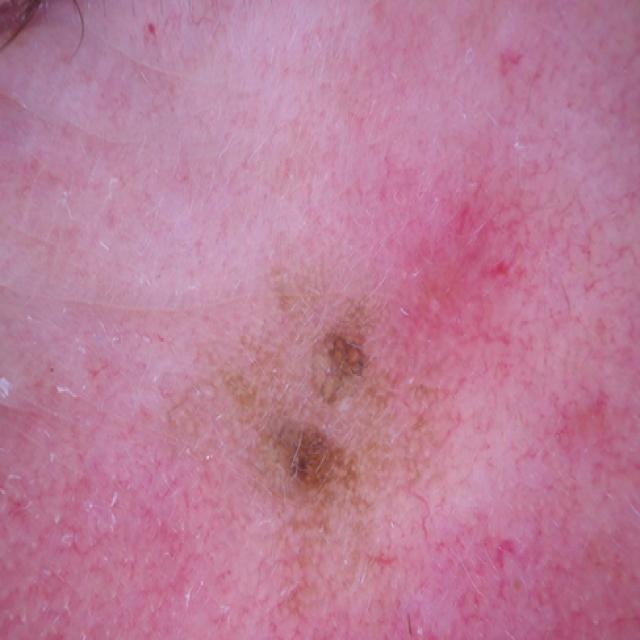Keratosis: (93, 326, 613, 640), (431, 185, 557, 304)
